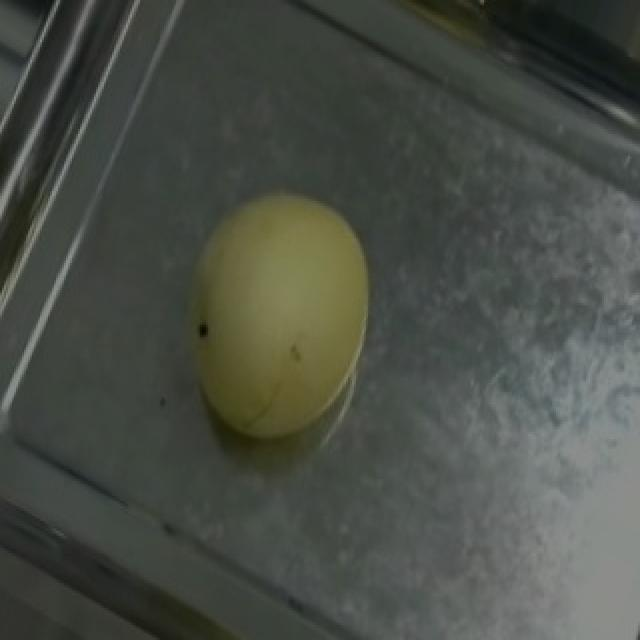Fruit: (136, 149, 422, 481)
